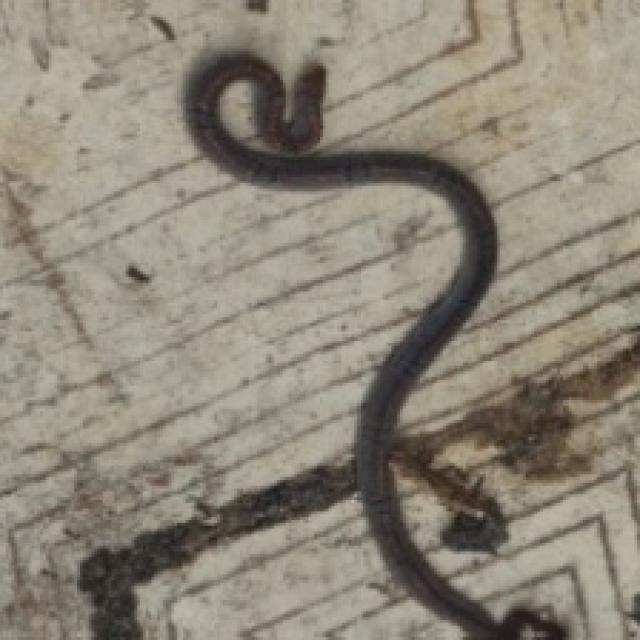northern short-headed snake: (186, 51, 566, 637), (186, 54, 566, 637)
